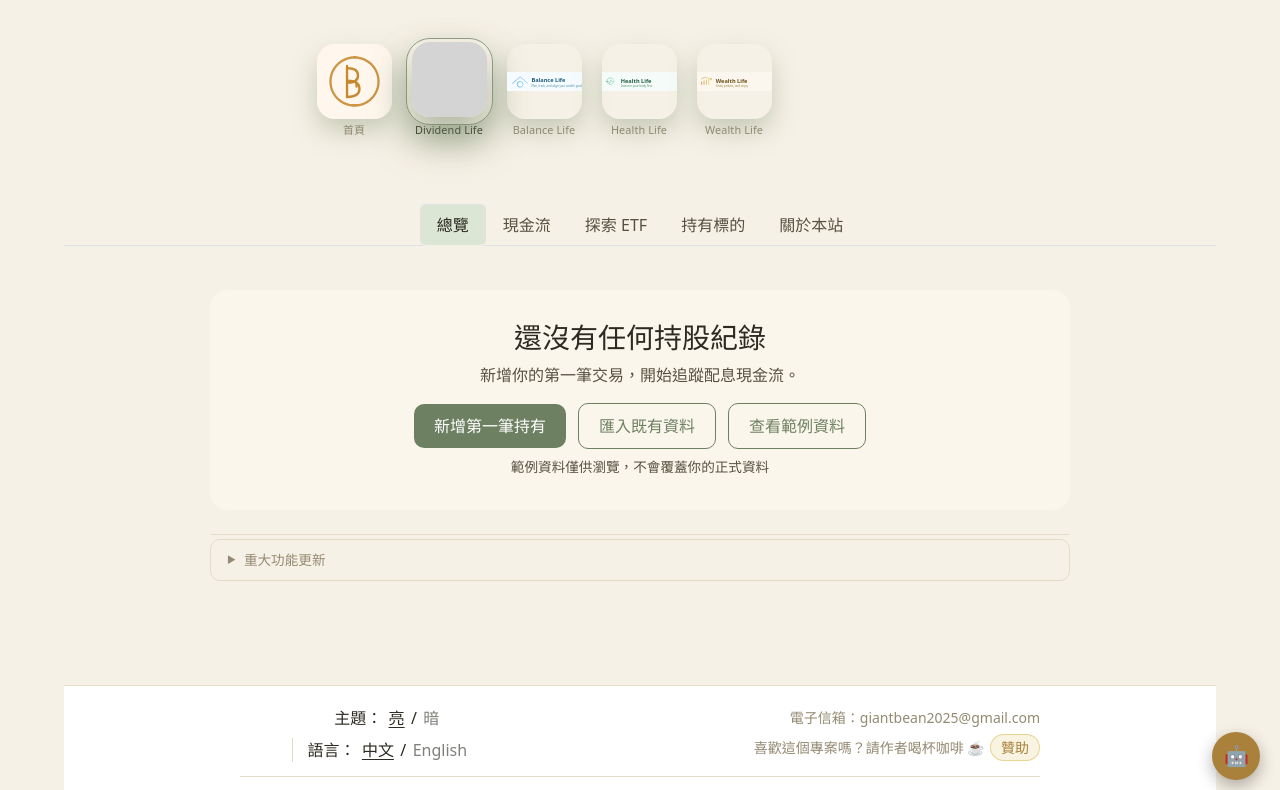
keeps current year selected even when current year has no data
Click the tab "探索 ETF": [616, 225] box [568, 204, 664, 246]
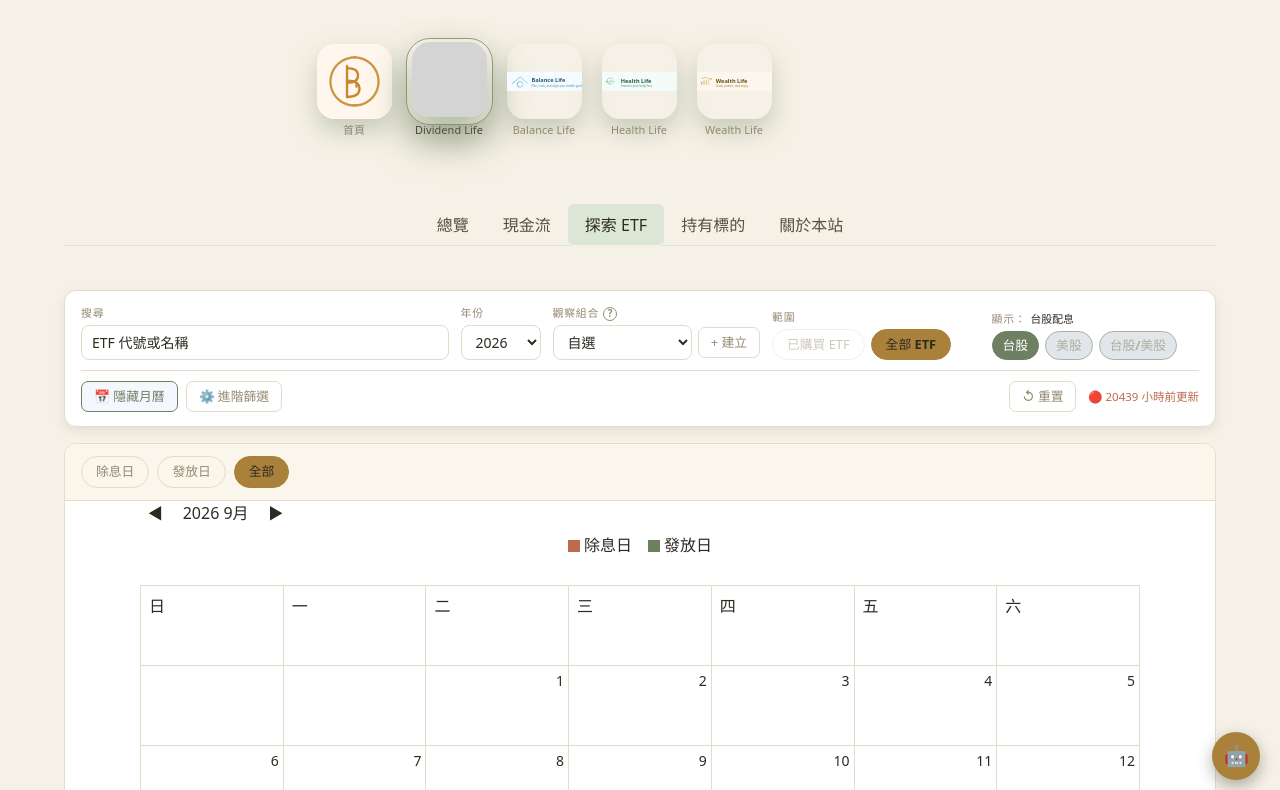
expect the dropdown labelled "年份" shows "2026": met, box [460, 325, 540, 360]
